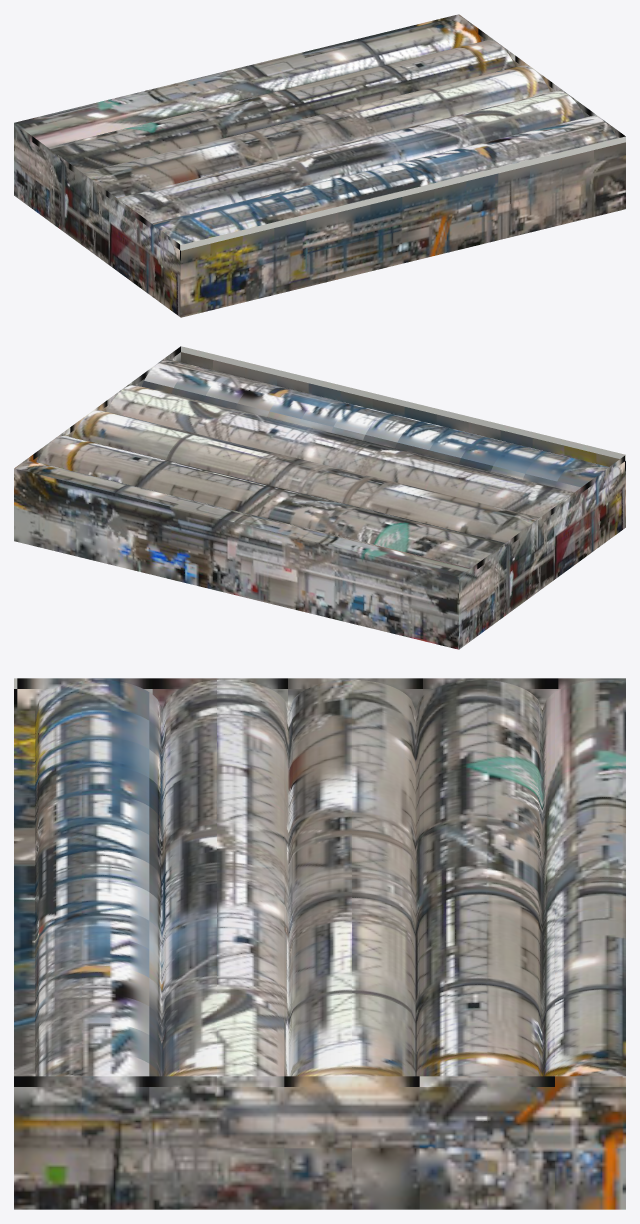
The model's file is hall_lo.glb.
The picture shows the model from 3 angles, top to bottom: view 1: azimuth 30°, elevation 25°; view 2: azimuth 150°, elevation 25°; view 3: azimuth 270°, elevation 25°; orthographic projection. The views are drawn at different scales.
Parts seen in each view (by area): view 1: hall_lo_p03; view 2: hall_lo_p03; view 3: hall_lo_p03.
Boxes of the visible parts, left/top/right/bottom form: hall_lo_p03: left=14, top=14, right=625, bottom=317; hall_lo_p03: left=14, top=346, right=625, bottom=649; hall_lo_p03: left=14, top=678, right=625, bottom=1209.
Size of the model in its own units: 55.7 by 8.75 by 36.2.
Materials: 7 (7 with a texture image).
